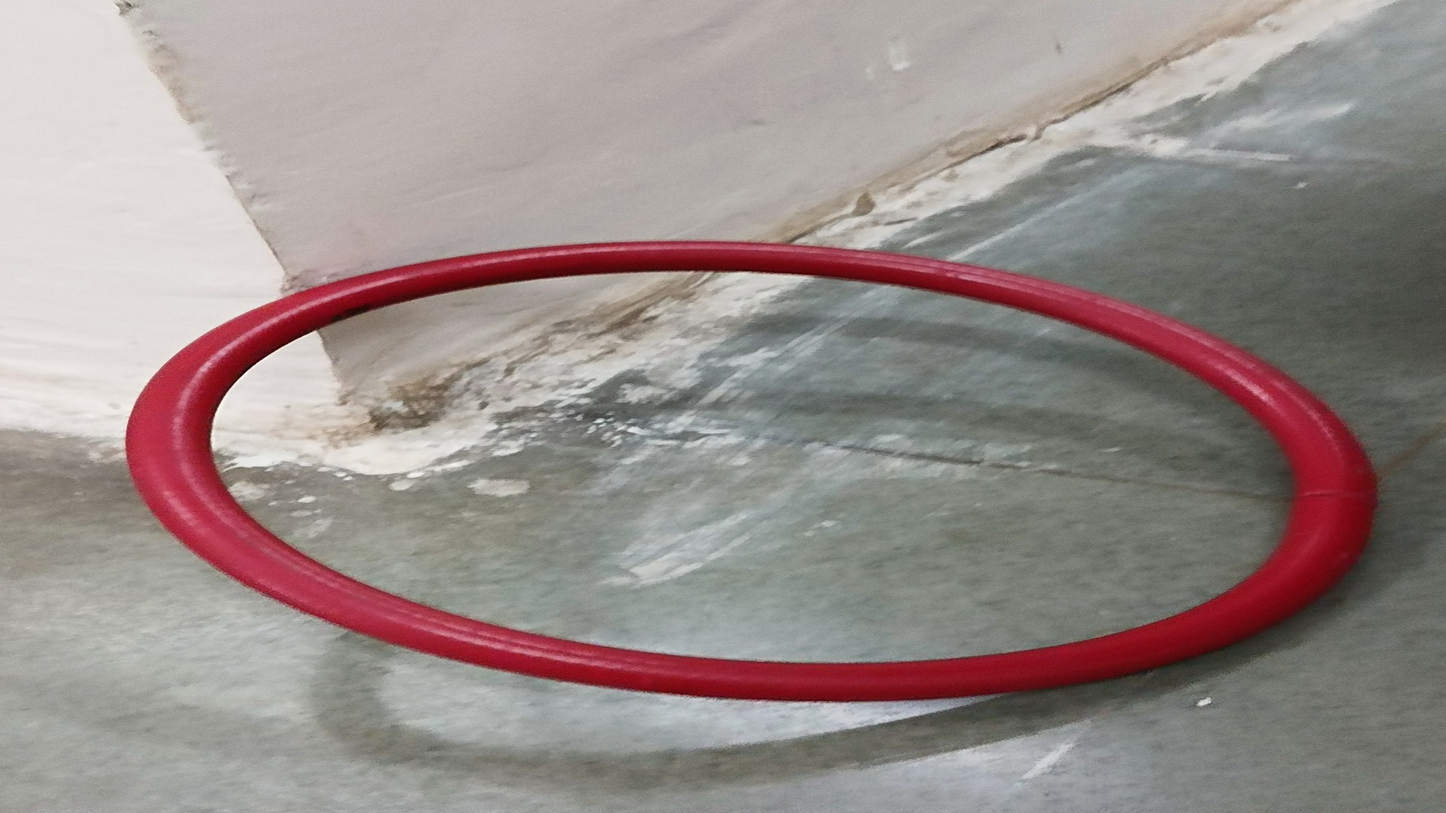Red ring: (125, 245, 1375, 702)
